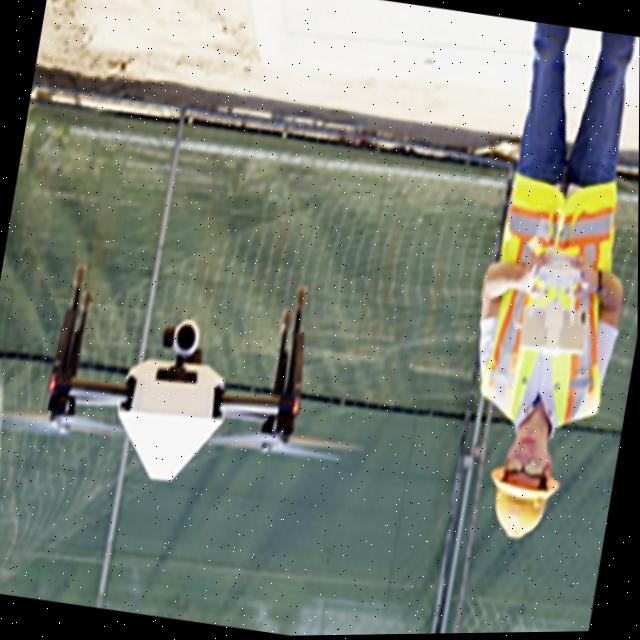drones: (0, 220, 412, 535)
